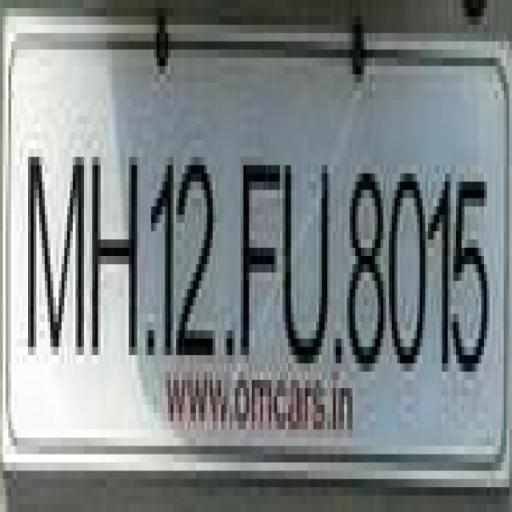number plate: (1, 25, 485, 471)
